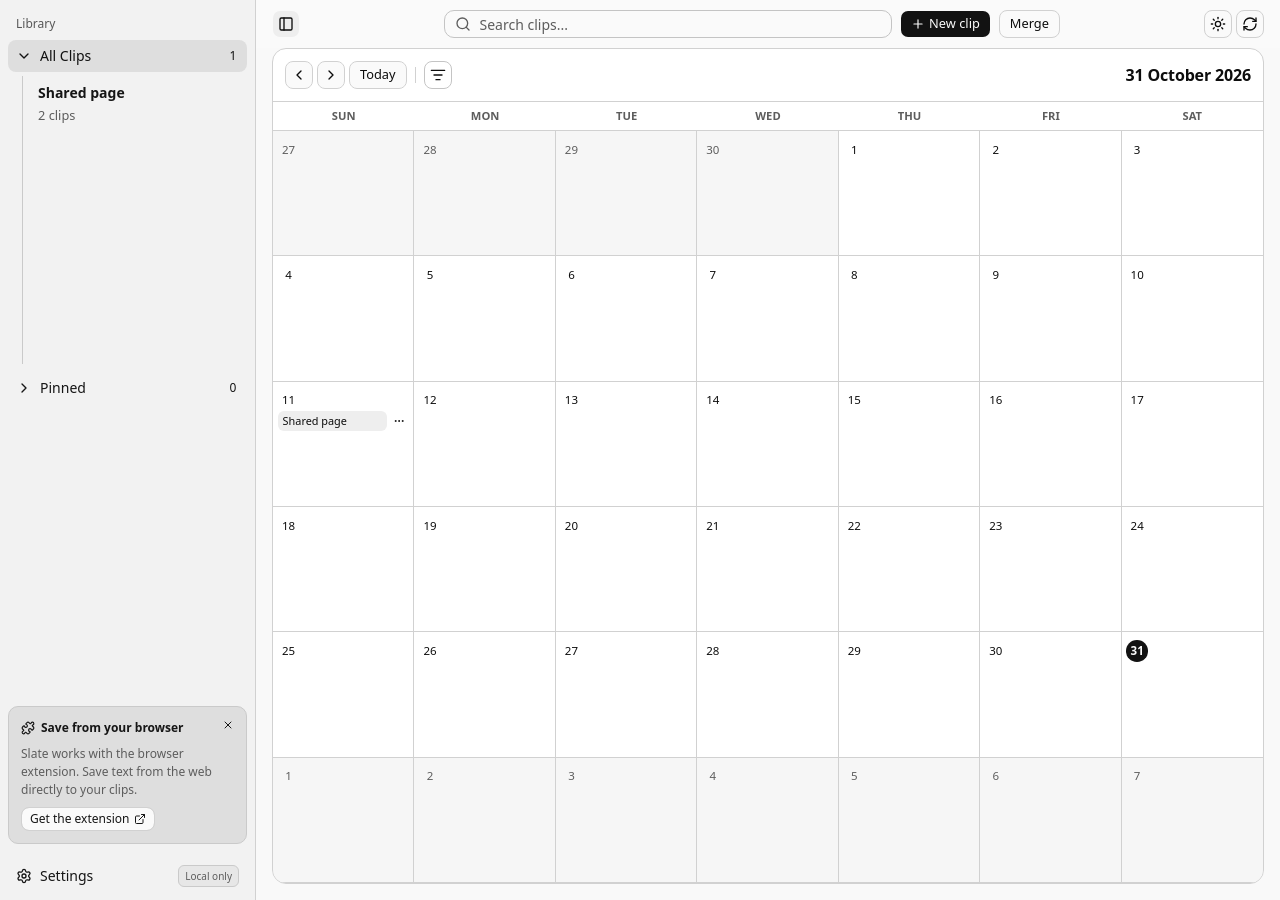
Test: member Edit retains the draft and its lease after persistence failure
Click the button with aria-label "Open Shared page" at (332, 421), box [278, 411, 387, 431]
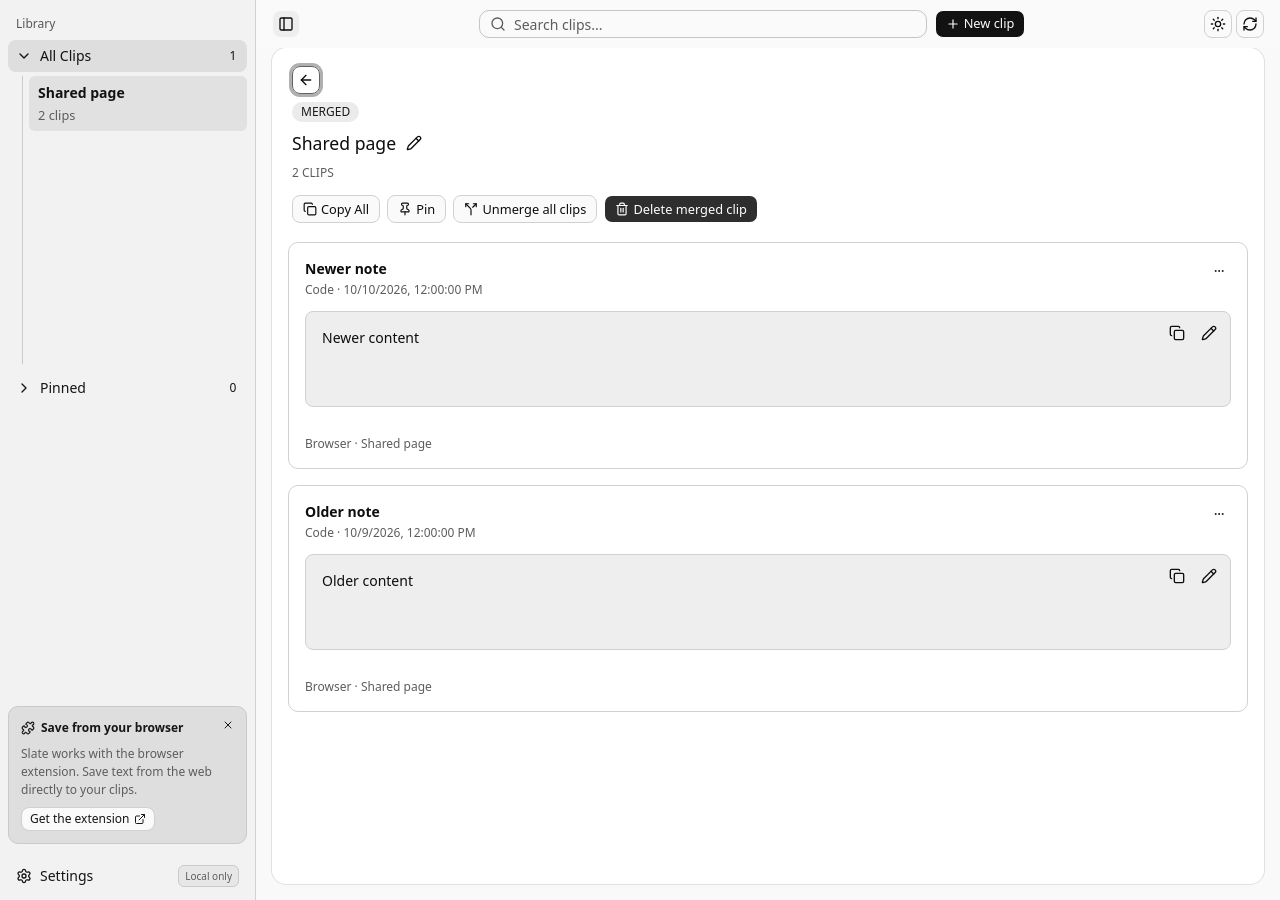
Click the button named "Actions for Older note" at (1219, 514), box [1207, 502, 1231, 526]
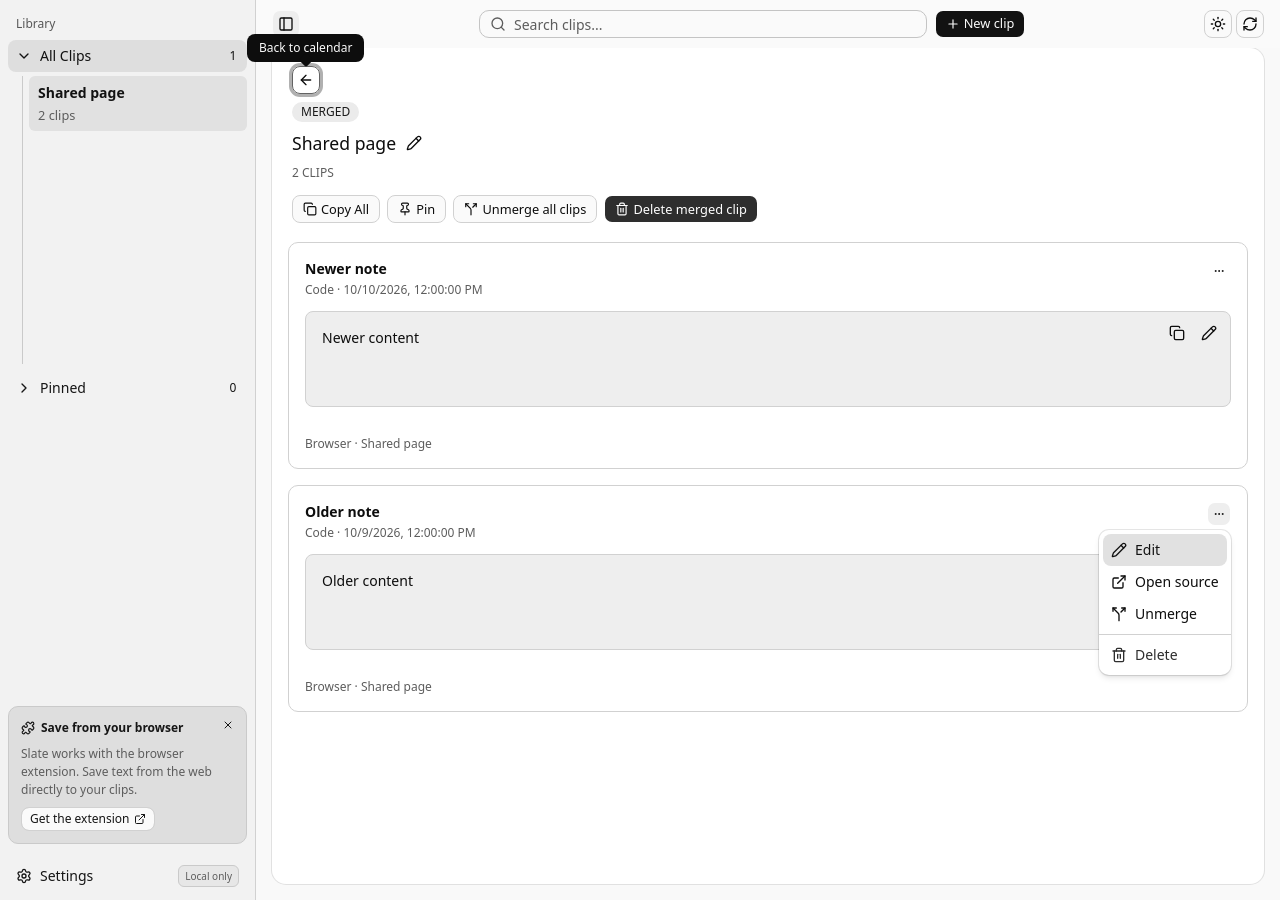
Click the menu item "Edit" at (1165, 550), box [1103, 534, 1227, 566]
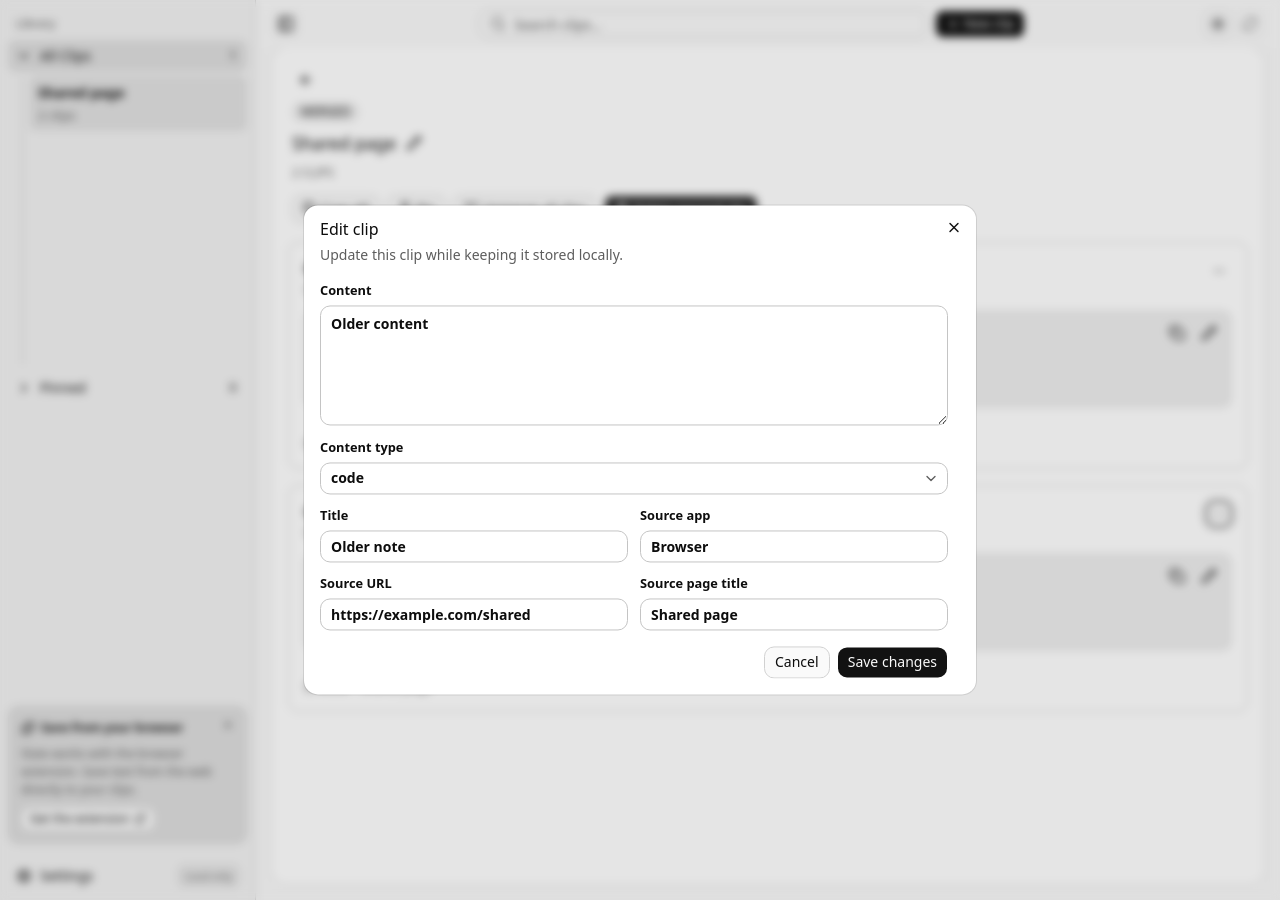
Replace the text in the text box labelled "Content" with "Keep this draft" at (634, 365), box [320, 305, 948, 425]
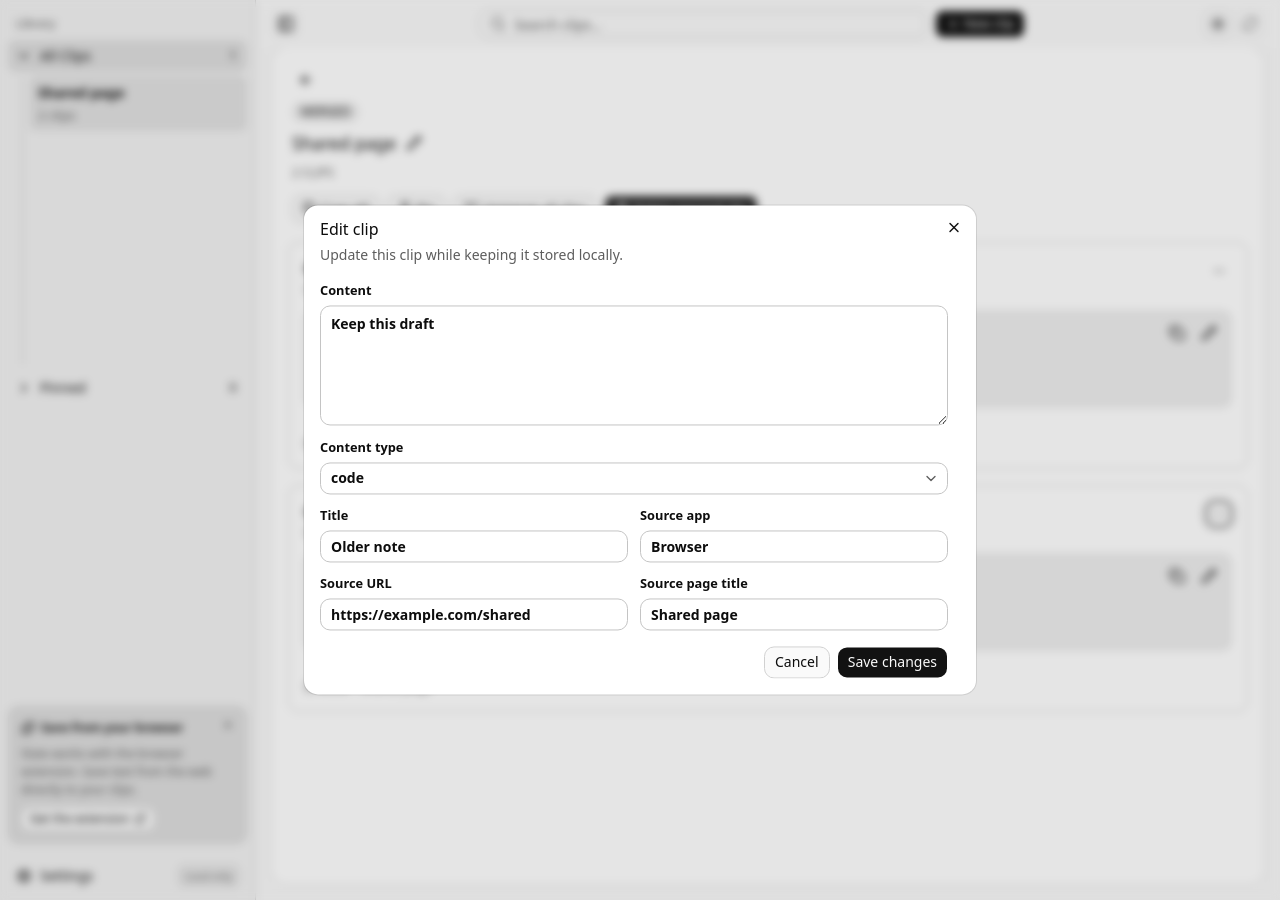
Click the button "Save changes" at (892, 662), box [837, 646, 948, 678]
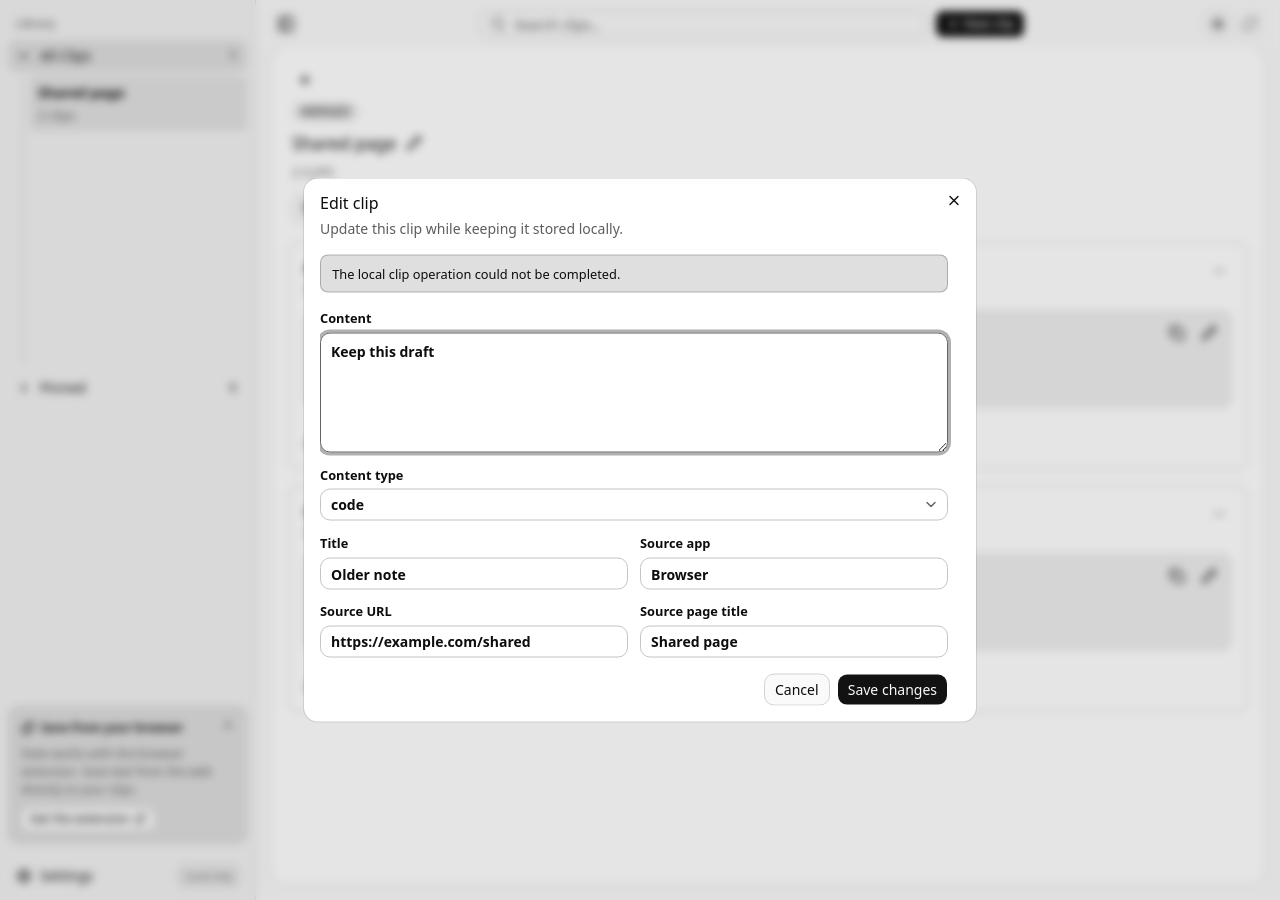
Expected: the message "The local clip operation could not be completed." is shown, [320, 254, 948, 292]
Click the button "Cancel" at (797, 690), box [764, 674, 830, 706]
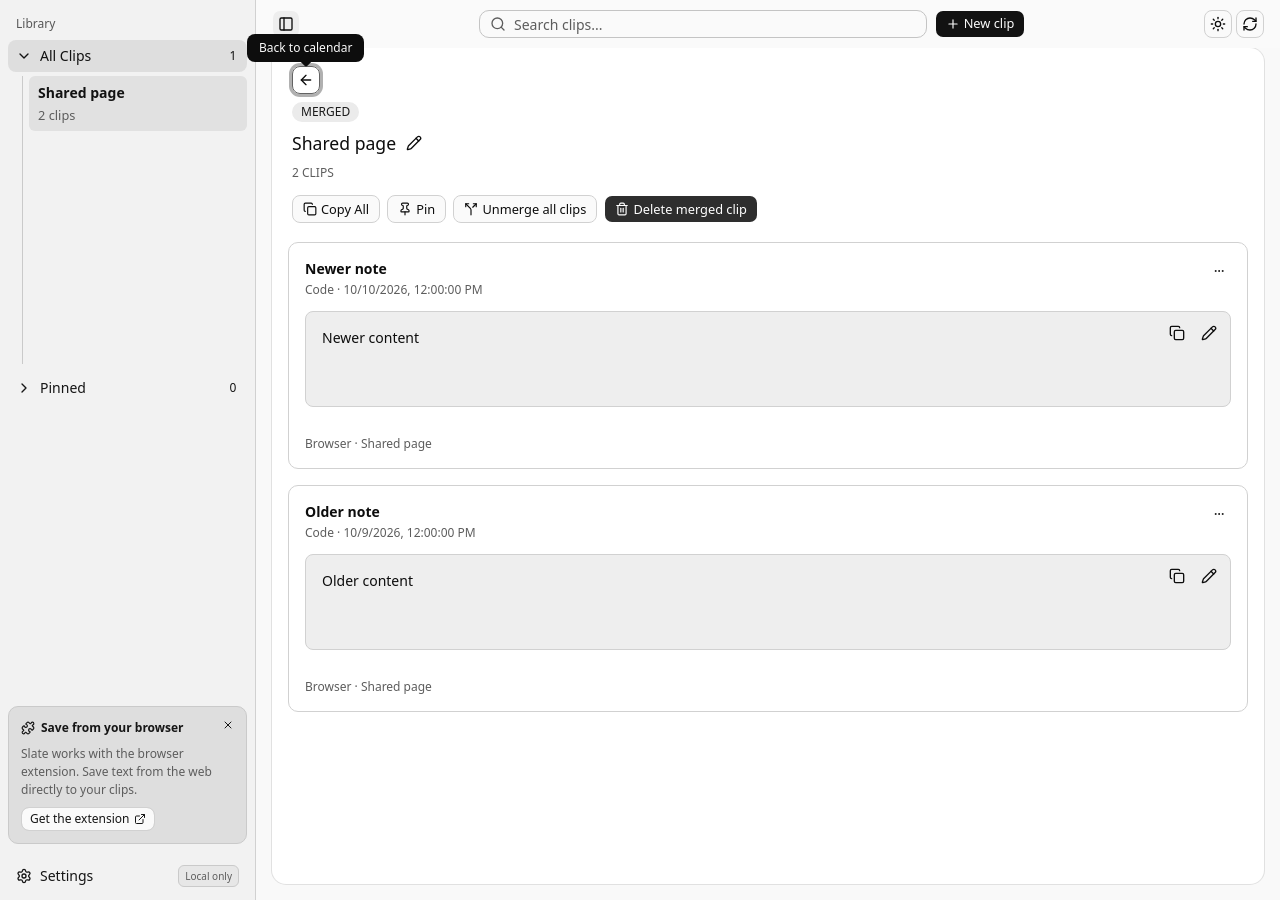
Expected: the heading "Shared page" is shown, [292, 131, 396, 155]
Expected: the dialog is gone
